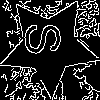S: (24, 20, 71, 56)
